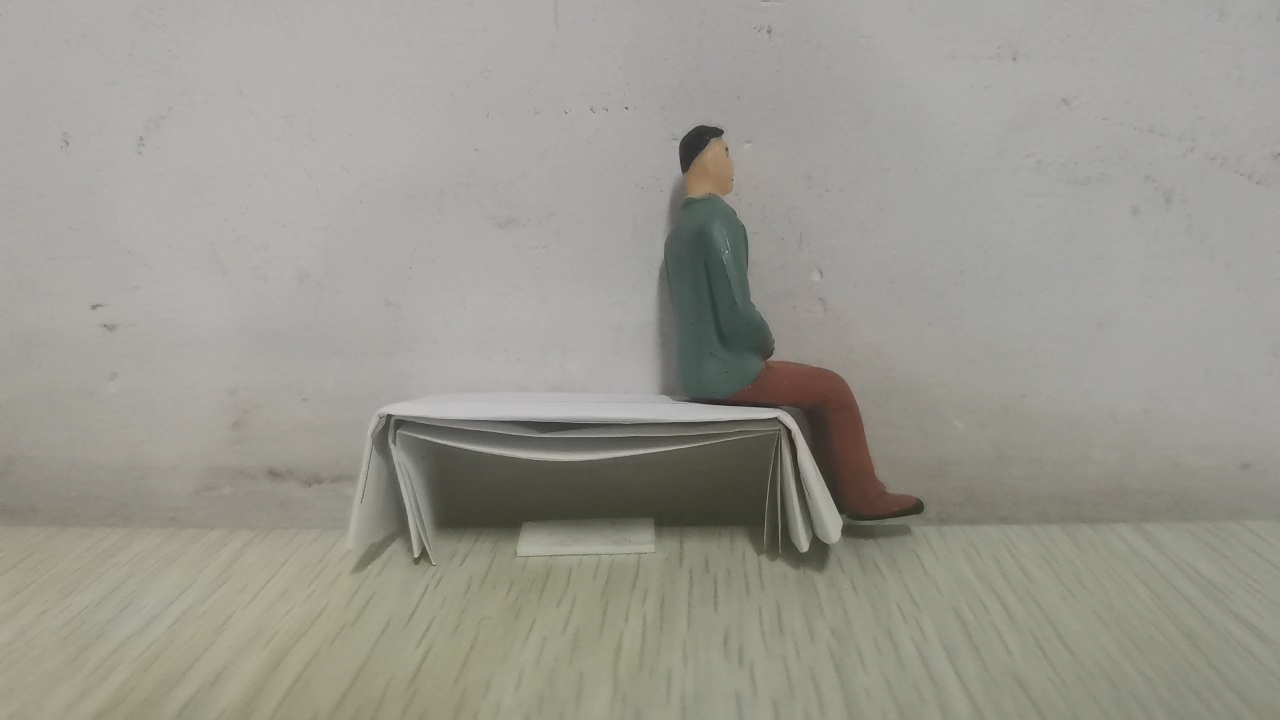person: (661, 124, 927, 524)
